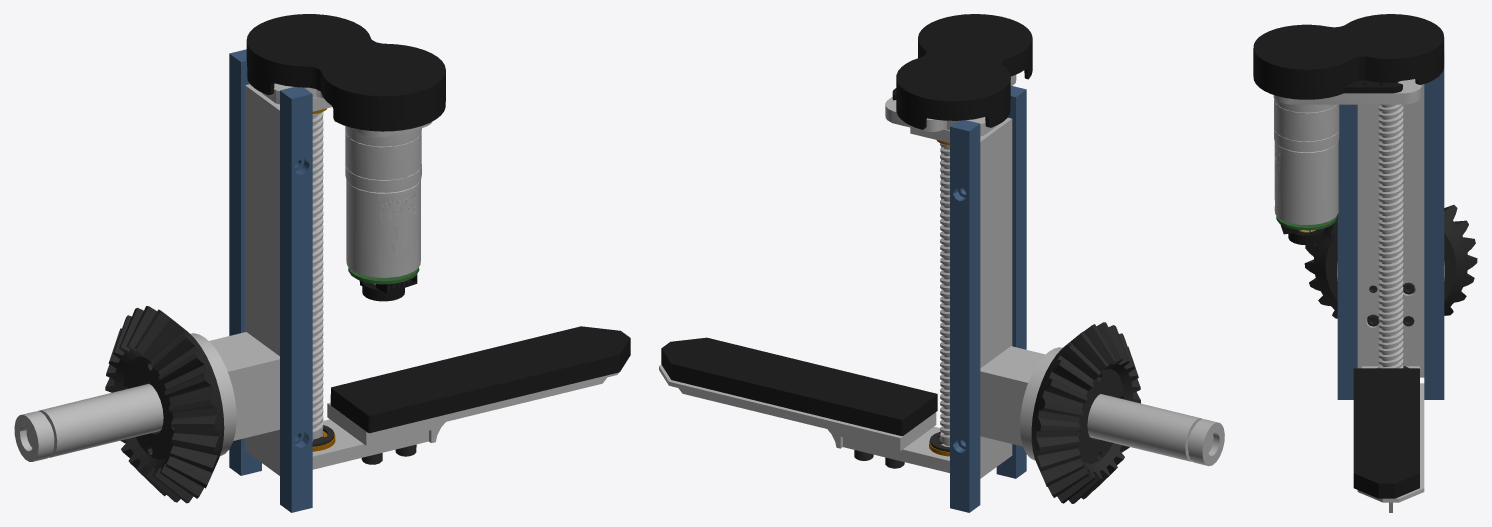
Rendered from arm_e.glb.
3 views of the same model, side by side, from view 1: azimuth 30°, elevation 25°; view 2: azimuth 150°, elevation 25°; view 3: azimuth 270°, elevation 25° (orthographic). The views are drawn at different scales.
Parts seen in each view (by area): view 1: 112619_A;1-MRVR26.RA.DE.CAMERA_MOUNT.002; view 2: 112619_A;1-MRVR26.RA.DE.CAMERA_MOUNT.002; view 3: 112619_A;1-MRVR26.RA.DE.CAMERA_MOUNT.002.
Boxes of the visible parts, x1,y1,x2,y2 form: 112619_A;1-MRVR26.RA.DE.CAMERA_MOUNT.002: (14, 14, 630, 512); 112619_A;1-MRVR26.RA.DE.CAMERA_MOUNT.002: (659, 14, 1224, 512); 112619_A;1-MRVR26.RA.DE.CAMERA_MOUNT.002: (1253, 14, 1477, 512).
Size of the model in its own units: 22.51 by 15.8 by 8.55.
